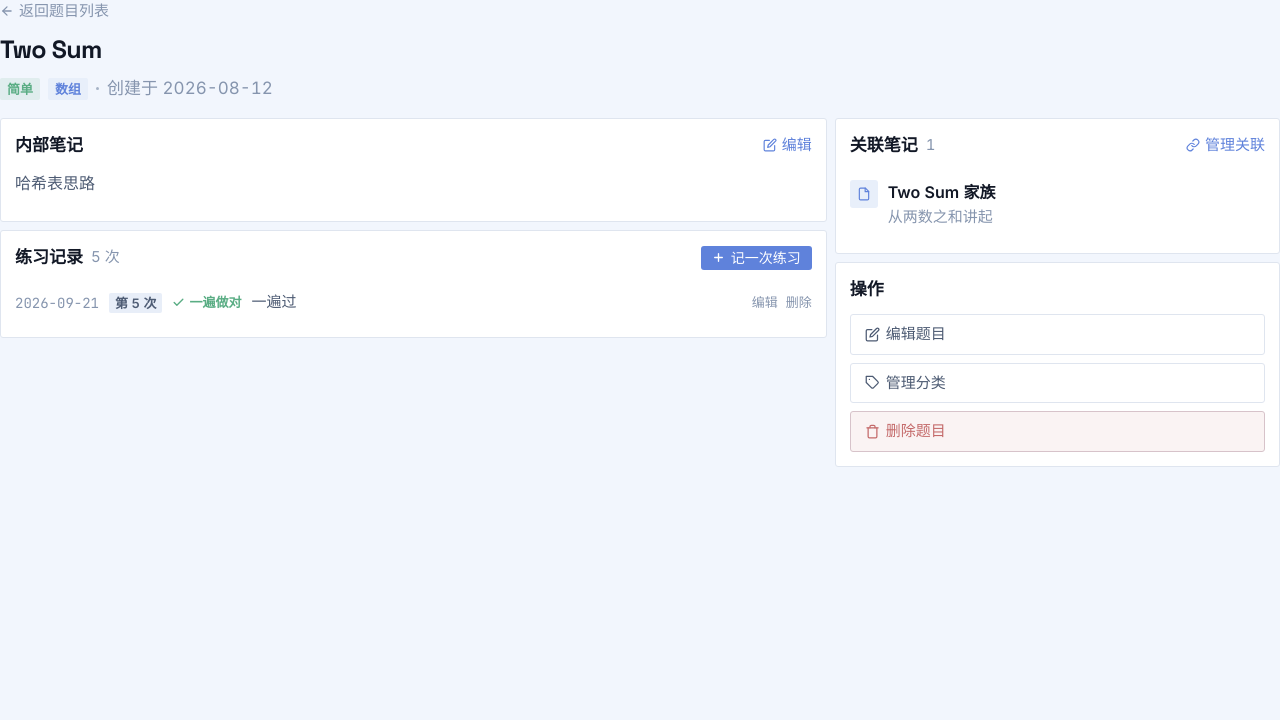
Test: ProblemDetail › 编辑器不被 <label> 包裹，避免点击工具栏按钮触发标签默认行为导致 B 误亮
Click the button "编辑题目": (916, 334) [850, 314, 1265, 354]
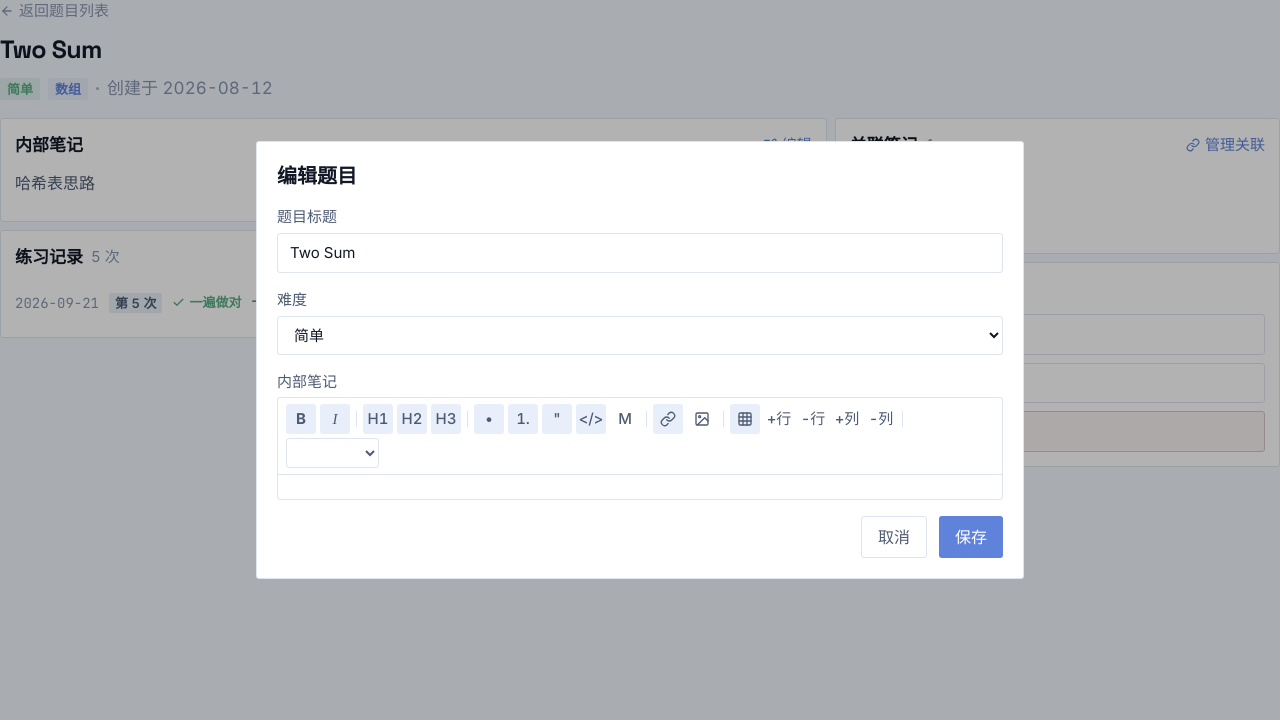
Now the button titled "加粗" is shown, box [286, 404, 316, 434]
